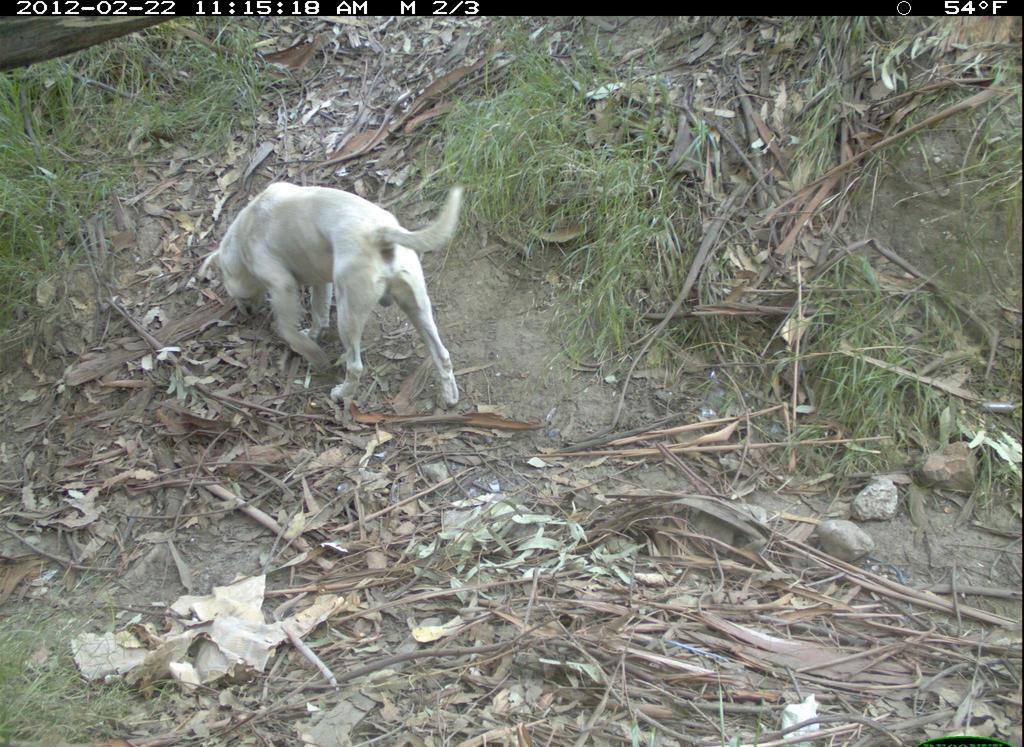dog: (198, 177, 492, 428)
